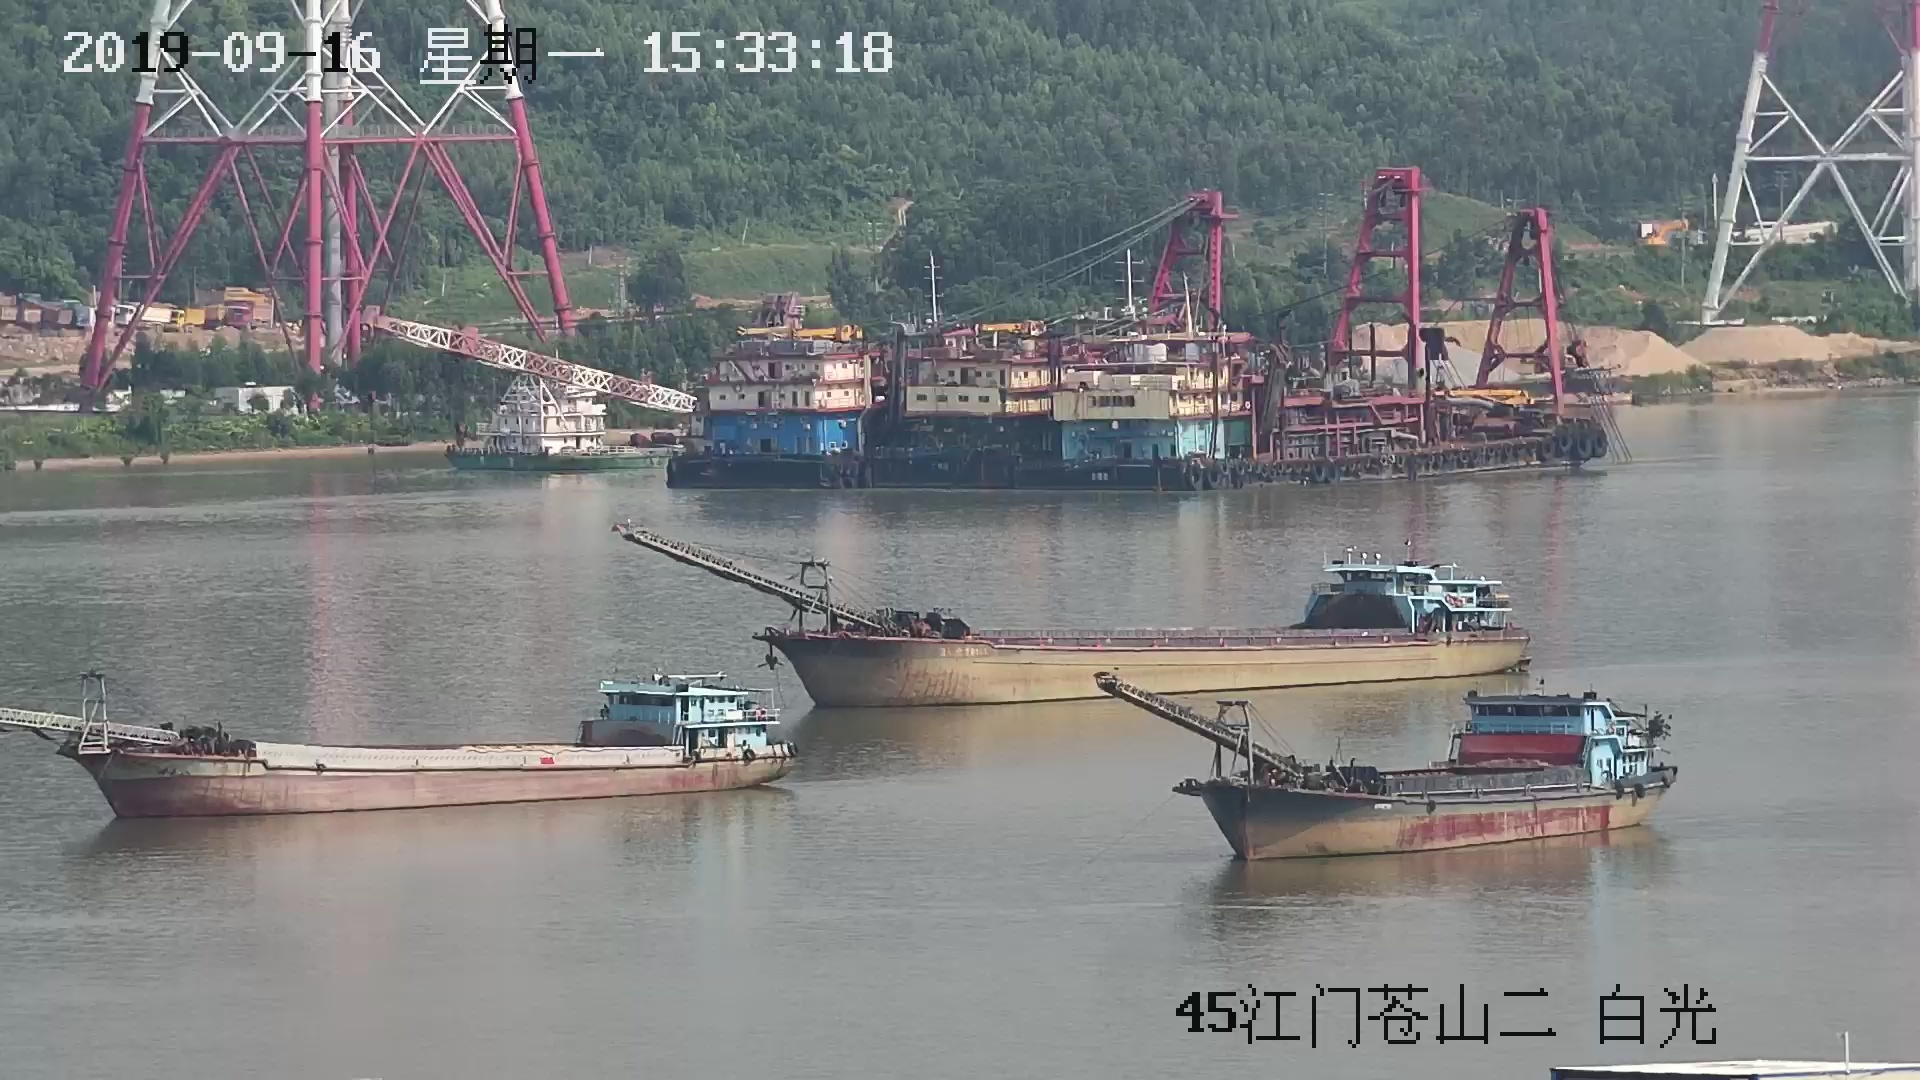ship: (604, 512, 1542, 686), (1, 630, 796, 822), (1085, 665, 1680, 858)
